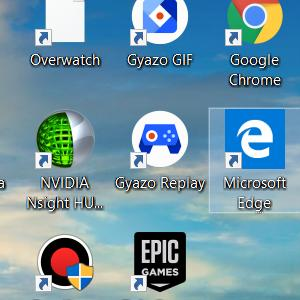edge: (225, 109, 285, 169)
